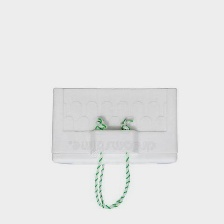foam_box: (44, 81, 185, 213)
